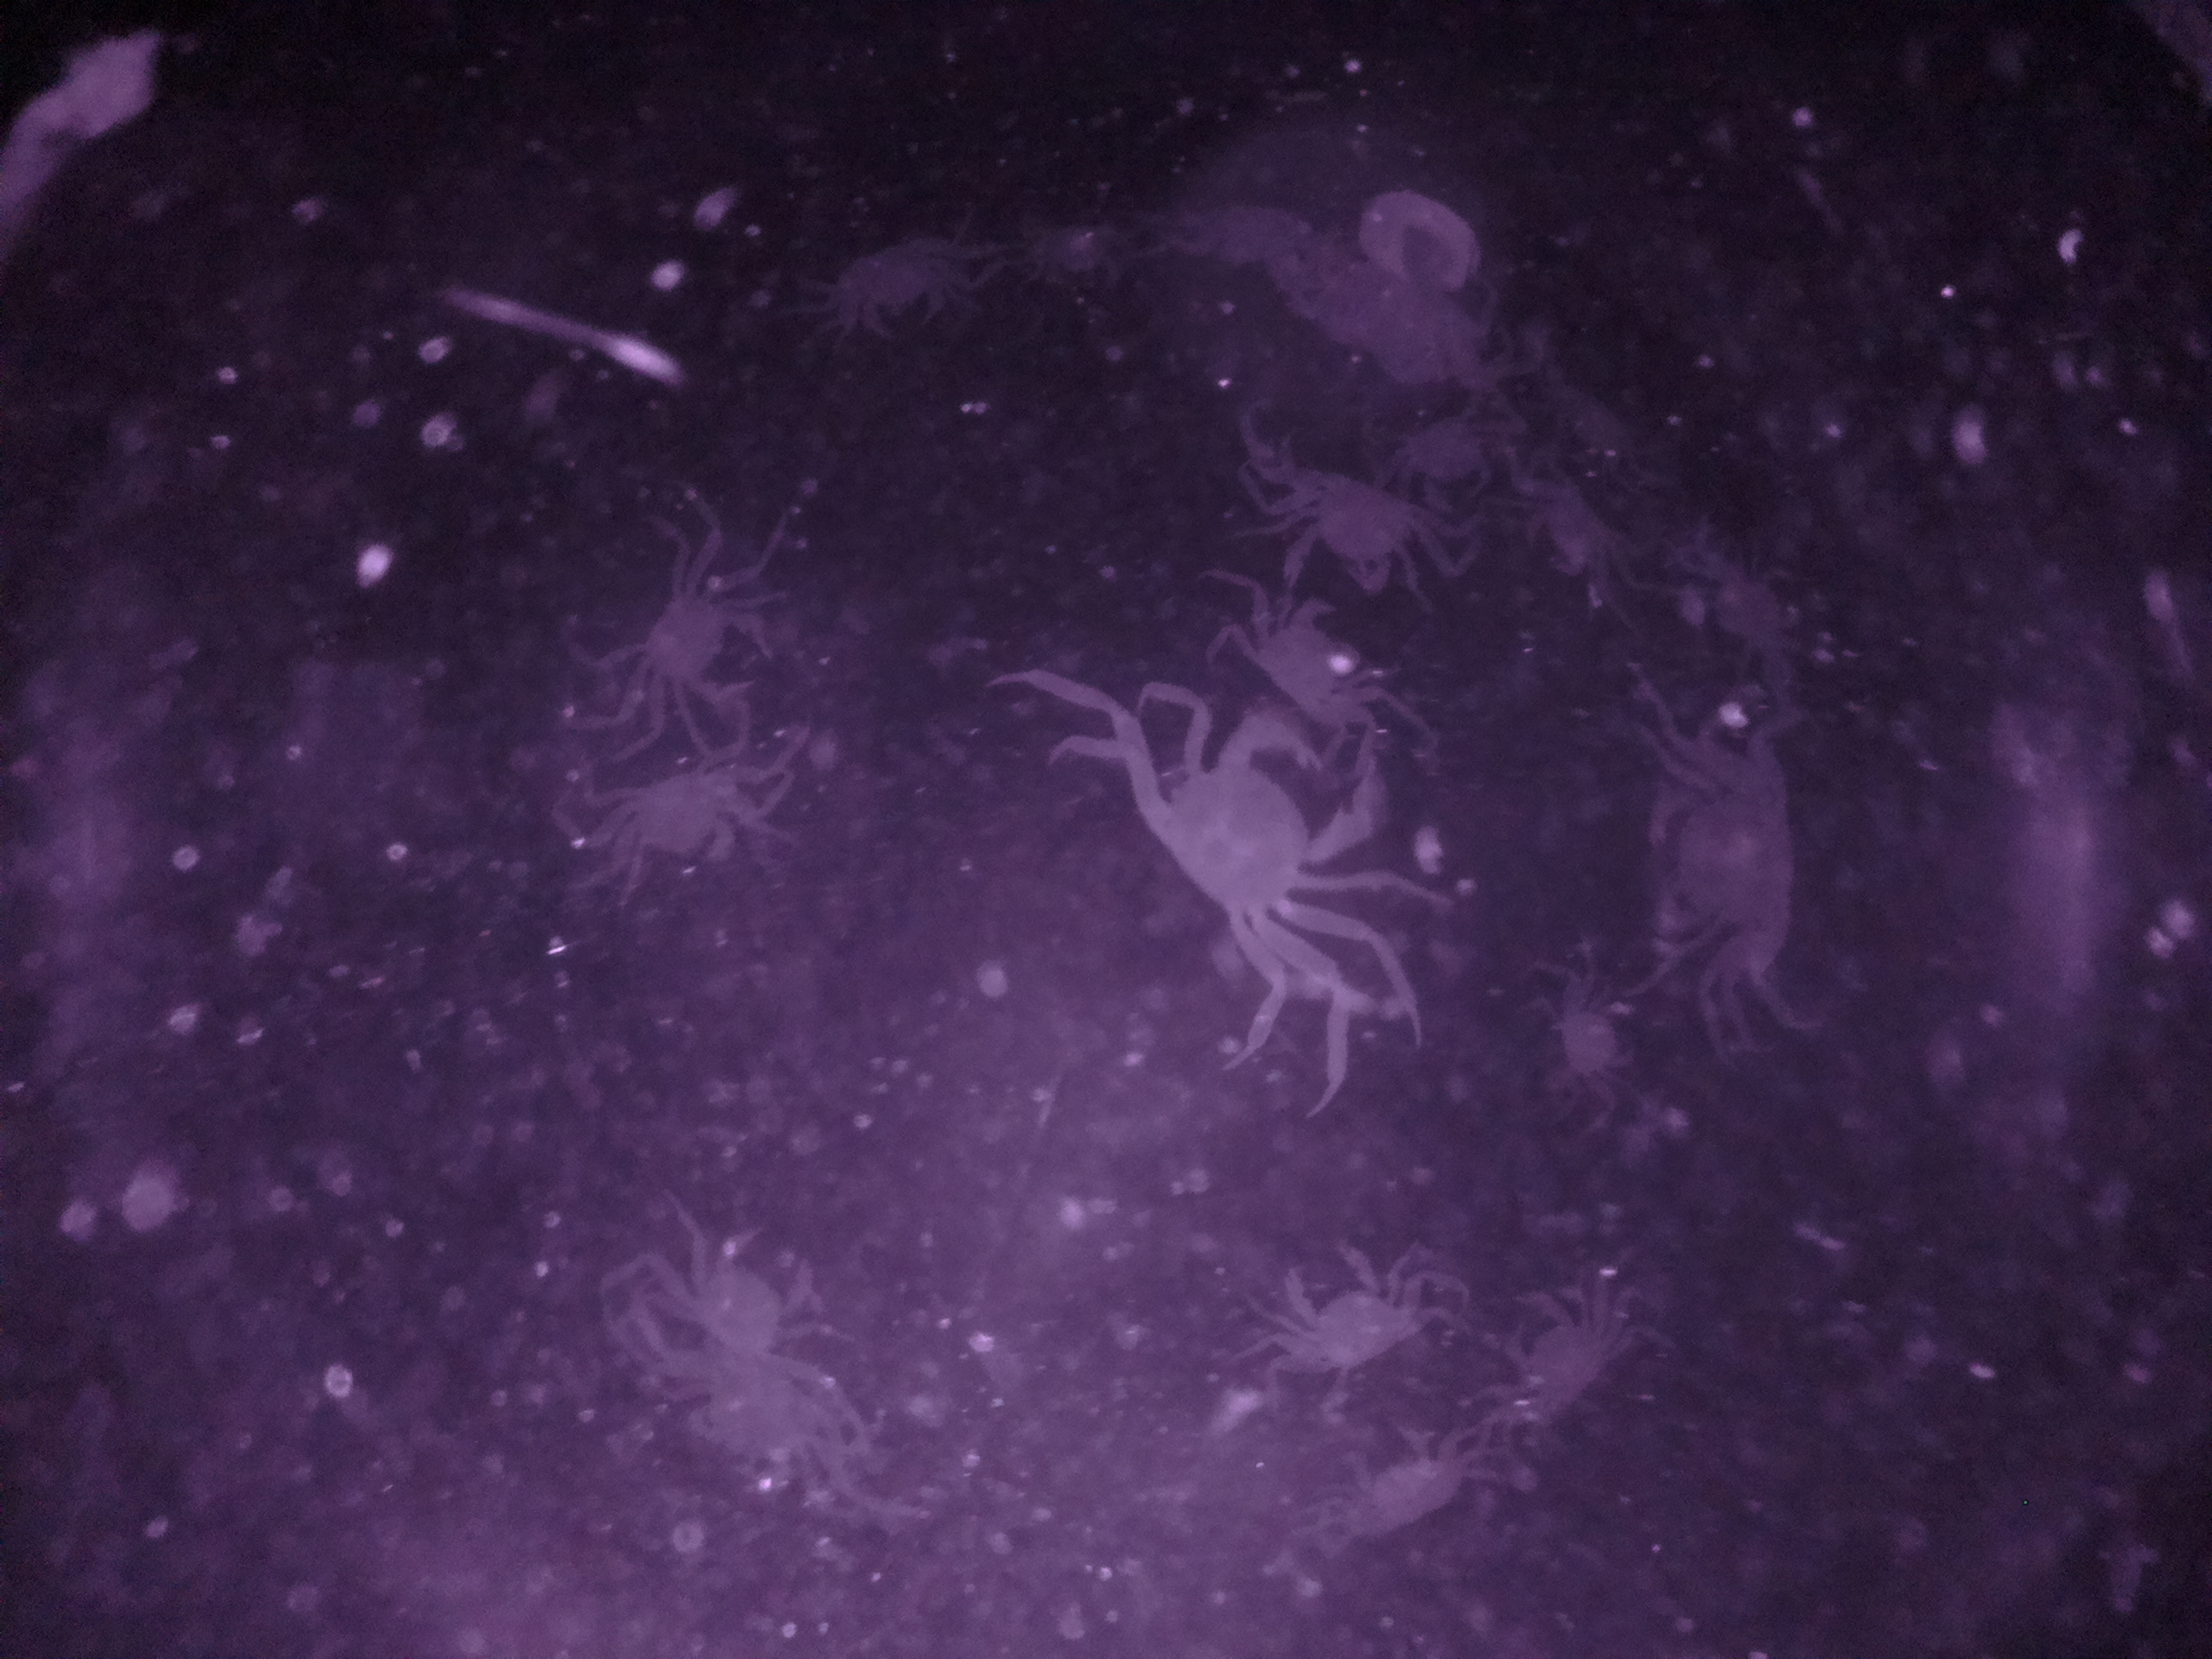Crab: (1115, 704, 1406, 964), (1474, 1161, 1719, 1457), (1632, 746, 1824, 997), (585, 554, 791, 725), (1252, 1227, 1440, 1399), (1247, 446, 1446, 592), (594, 748, 772, 894), (833, 220, 984, 347)
